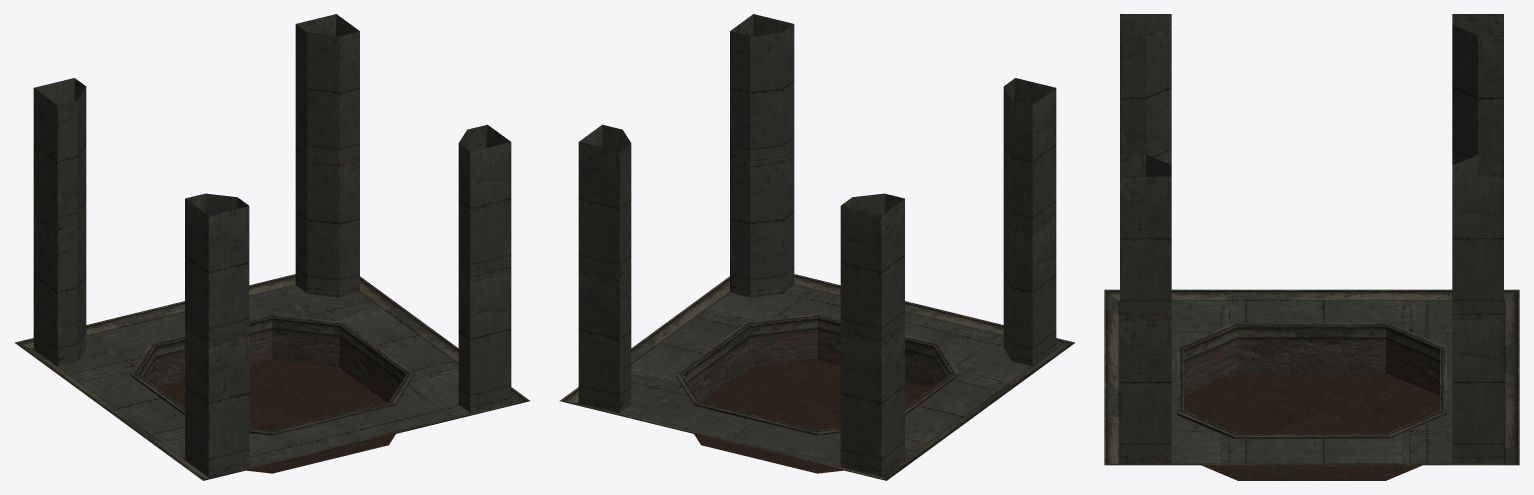
Rendered from structure_piece_rg_1.dae.
The picture shows the model from 3 angles, left to right: view 1: azimuth 30°, elevation 25°; view 2: azimuth 150°, elevation 25°; view 3: azimuth 270°, elevation 25°; orthographic projection. The views are drawn at different scales.
Parts seen in each view (by area): view 1: structure_piece_rg_1; view 2: structure_piece_rg_1; view 3: structure_piece_rg_1.
Part boxes in pixels (box(x1,y1,x2,y2)): structure_piece_rg_1: box(15, 14, 530, 480); structure_piece_rg_1: box(559, 14, 1074, 480); structure_piece_rg_1: box(1104, 14, 1519, 480).
Bounding box in the file's own units: 8 × 8 × 7.05.
Materials: 3 (3 with a texture image).
